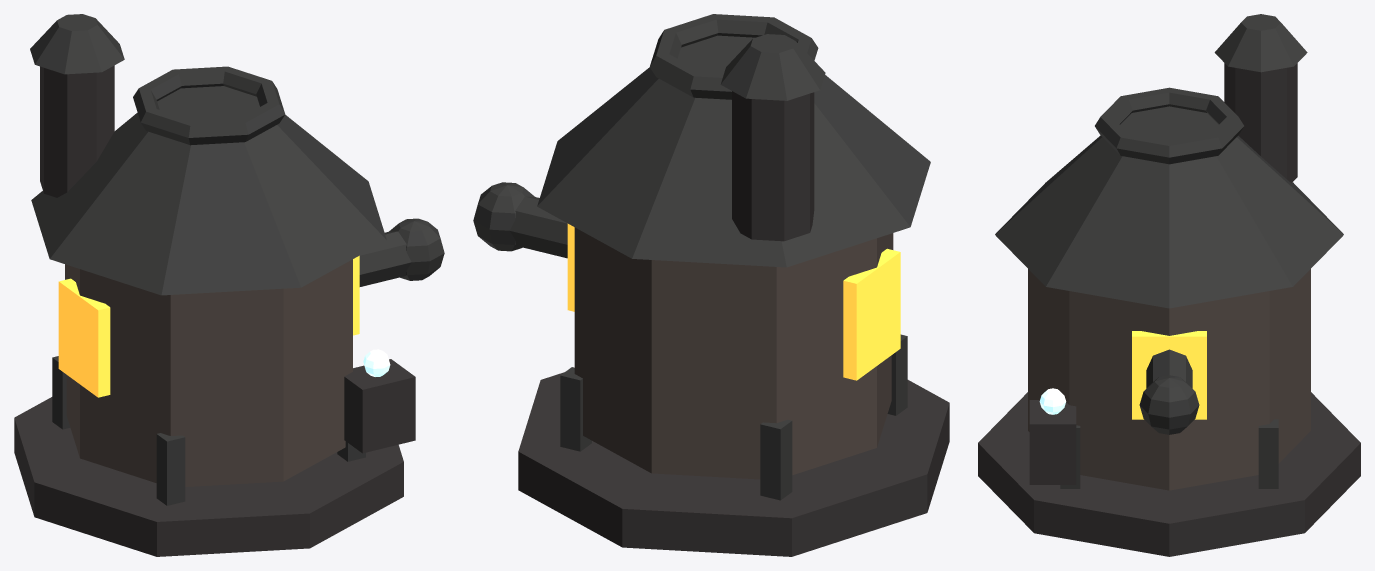
File: MiniOreRefiner.glb
3 views of the same model, side by side, from view 1: azimuth 30°, elevation 25°; view 2: azimuth 150°, elevation 25°; view 3: azimuth 270°, elevation 25° (orthographic). The views are drawn at different scales.
Parts seen in each view (by area): view 1: MiniOreRefiner; view 2: MiniOreRefiner; view 3: MiniOreRefiner.
Part boxes in pixels (x1,y1,x2,y2): MiniOreRefiner: (14,14,444,556); MiniOreRefiner: (473,14,949,556); MiniOreRefiner: (978,14,1360,556).
Bounding box in the file's own units: 2.68 × 2.75 × 2.3.
5 materials, 5 textured.
